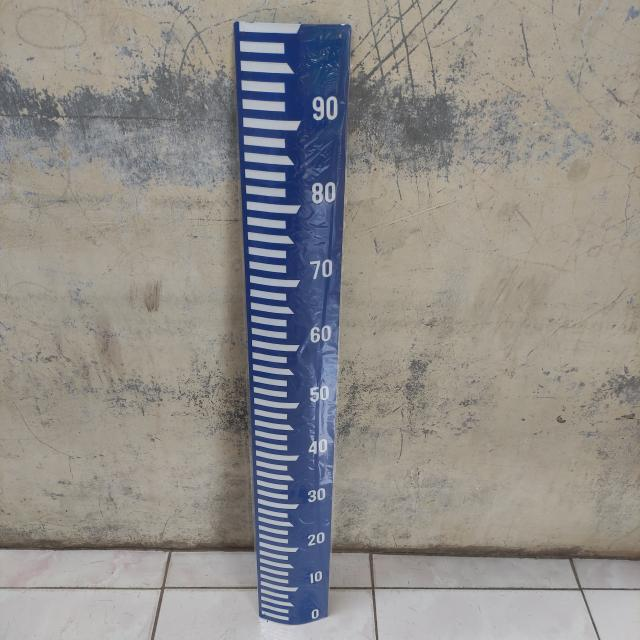10: (307, 570, 325, 588)
20: (307, 530, 327, 550)
30: (306, 484, 328, 506)
40: (306, 436, 329, 458)
50: (307, 384, 330, 406)
60: (306, 320, 335, 348)
70: (309, 257, 336, 287)
80: (308, 179, 337, 204)
90: (311, 91, 340, 123)
staff: (236, 22, 354, 622)
